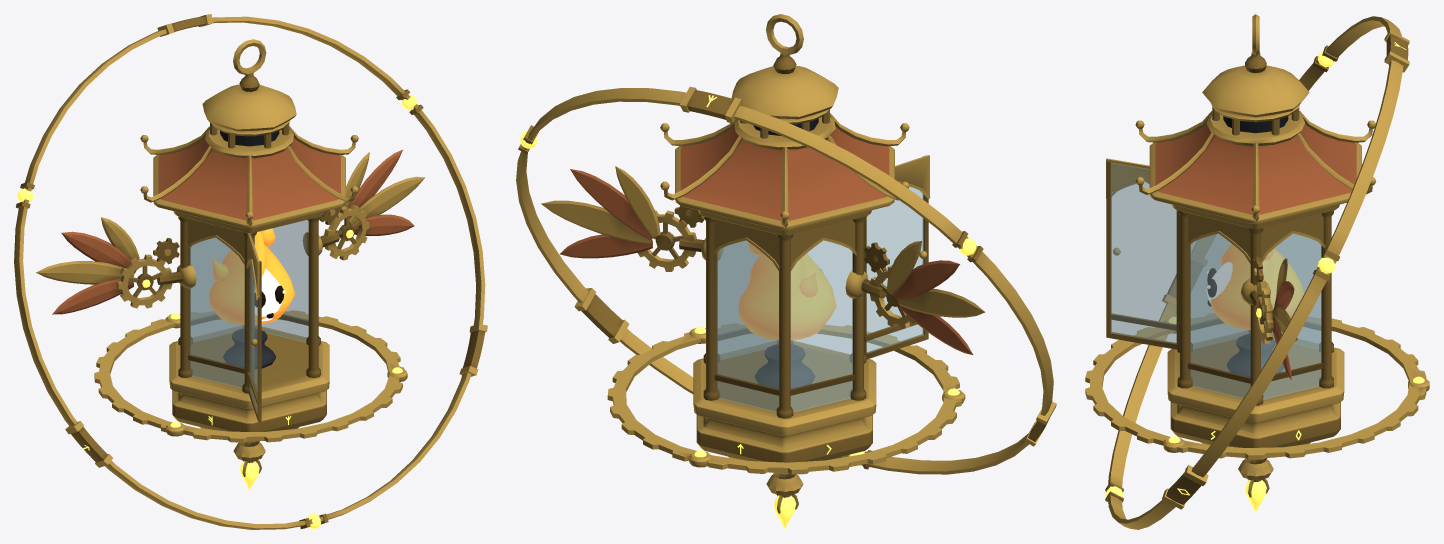
File: wisp.glb
3 renders of one model, left to right at view 1: azimuth 30°, elevation 25°; view 2: azimuth 150°, elevation 25°; view 3: azimuth 270°, elevation 25°, orthographic. The views are drawn at different scales.
Visible parts, largest first — view 1: lantern, ring_B, ring_A, wing_R, wing_L, flame; view 2: lantern, ring_B, ring_A, wing_L, wing_R, flame; view 3: lantern, ring_B, ring_A, flame, wing_L.
Boxes of the visible parts, bbox=[...] form: lantern: bbox=[140, 39, 358, 490]; ring_B: bbox=[14, 14, 487, 529]; ring_A: bbox=[94, 310, 407, 442]; wing_R: bbox=[36, 217, 182, 314]; wing_L: bbox=[320, 149, 424, 260]; flame: bbox=[209, 228, 295, 324]; lantern: bbox=[660, 14, 930, 529]; ring_B: bbox=[516, 86, 1056, 474]; ring_A: bbox=[607, 324, 965, 474]; wing_L: bbox=[541, 166, 704, 271]; wing_R: bbox=[861, 241, 984, 354]; flame: bbox=[739, 243, 836, 339]; lantern: bbox=[1106, 14, 1376, 512]; ring_B: bbox=[1105, 16, 1409, 529]; ring_A: bbox=[1085, 313, 1429, 459]; flame: bbox=[1206, 244, 1303, 329]; wing_L: bbox=[1249, 256, 1297, 379].
Bounding box in the file's own units: 1.05 × 1.01 × 0.634.
